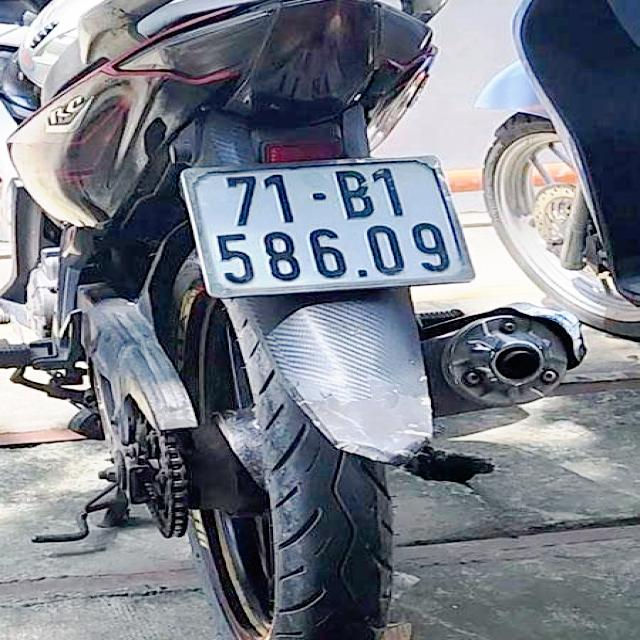license_plate: (185, 152, 472, 288)
